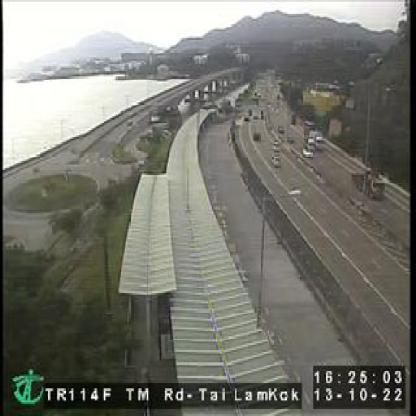Car: (272, 143, 282, 157), (304, 146, 315, 158), (272, 156, 282, 168), (254, 132, 261, 142)
Truck: (350, 168, 386, 199), (308, 130, 324, 150)
